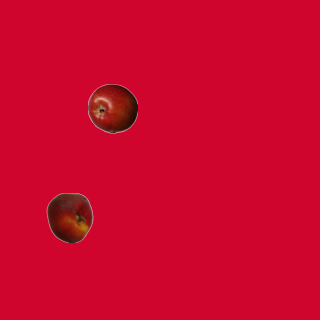Apple Braeburn: (87, 83, 137, 133)
Nectarine Flat: (44, 192, 94, 242)
